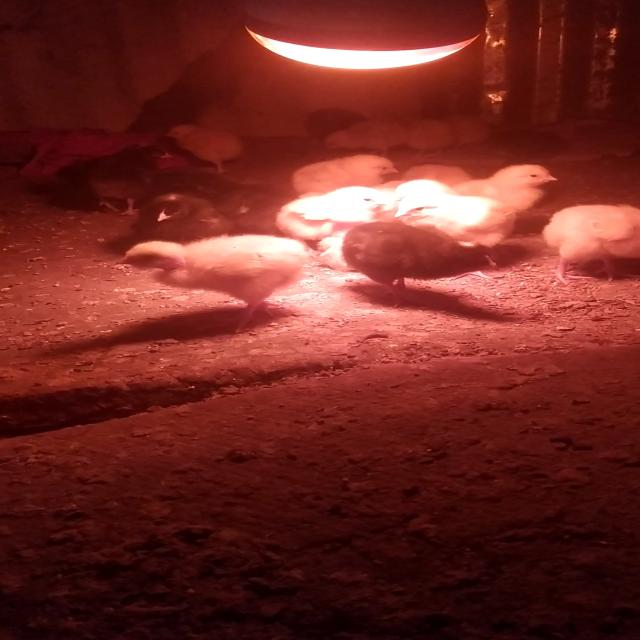chick: (116, 234, 310, 335), (344, 220, 501, 308), (395, 190, 527, 279), (74, 145, 210, 217), (274, 187, 398, 260), (542, 205, 640, 289), (439, 164, 556, 233), (272, 154, 399, 210), (312, 226, 447, 274), (353, 174, 452, 238), (138, 187, 241, 247), (149, 167, 251, 221), (164, 124, 244, 179), (320, 116, 408, 164), (393, 164, 485, 200), (432, 113, 498, 148), (405, 114, 451, 164)
